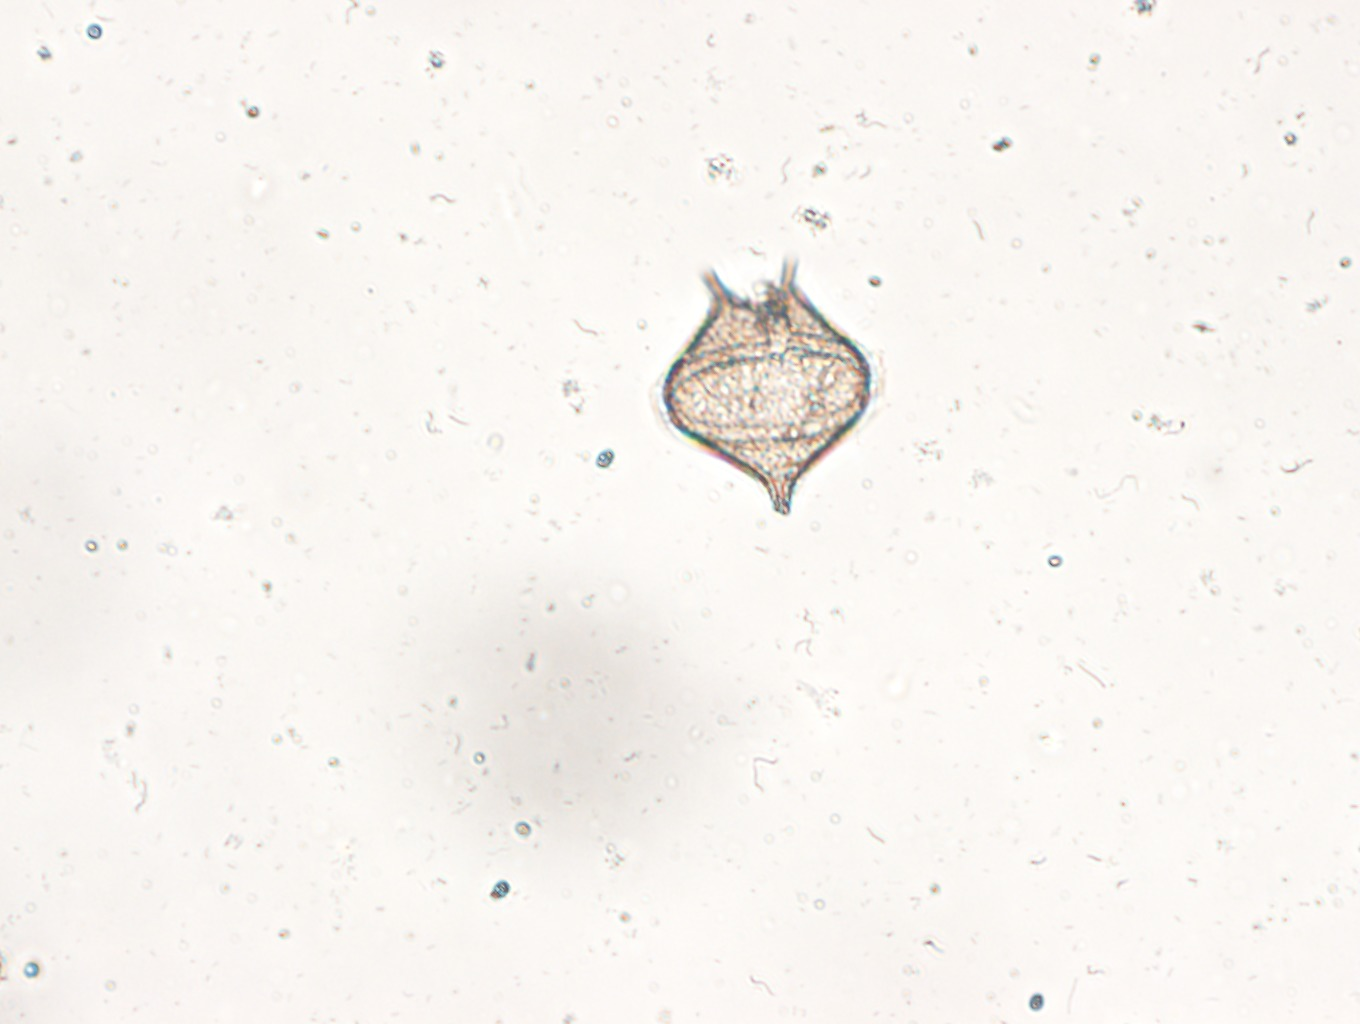protoperidinium: (653, 255, 877, 523)
